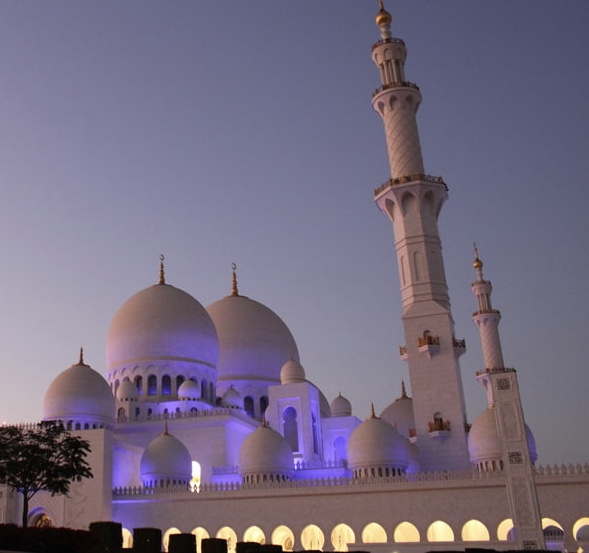Mosque: (16, 11, 545, 546)
